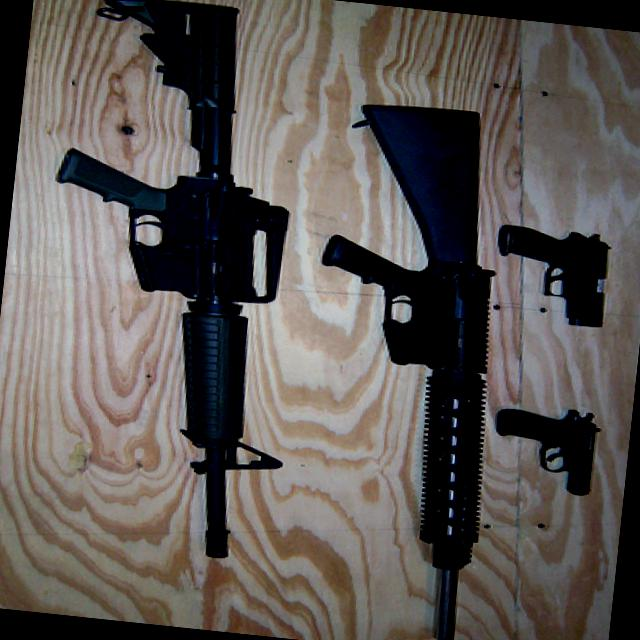handgun: (493, 217, 615, 333), (486, 402, 606, 498)
